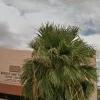Palm tree: (20, 17, 91, 99)
